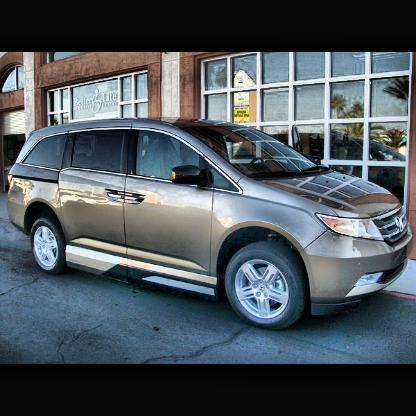Honda Odyssey Minivan 2012: (6, 116, 416, 335)
